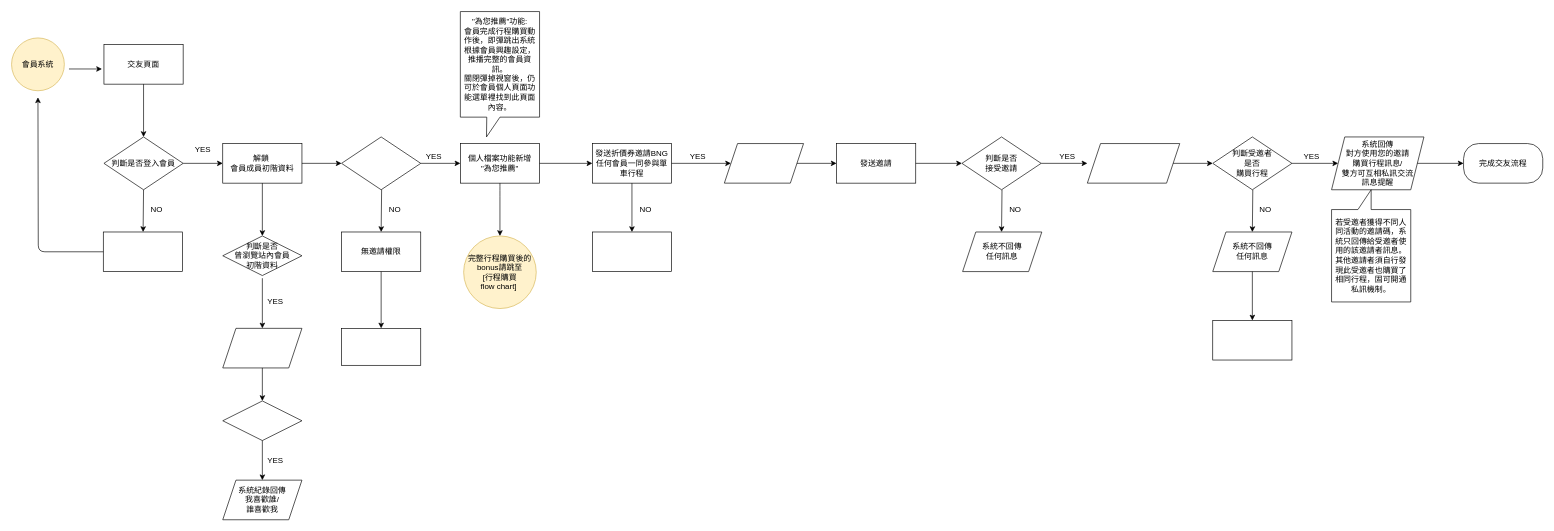
Image size: 1554x531. Some labels were removed from this diagram. Each missing label, with the box of its shape:
判斷是否 曾於BNG消費: (341, 136, 421, 190)
判斷是否 給與"喜歡": (222, 400, 302, 441)
受邀者: 折價券尚未使用提醒彈跳視窗: (1212, 320, 1292, 360)
尚未登入: (103, 231, 182, 272)
折價券尚未使用提醒彈跳視窗: (592, 231, 672, 272)
系統回傳 對方接受邀請碼訊息: (1087, 143, 1180, 183)
系統紀錄回傳 我看過誰/ 誰看過我: (222, 328, 302, 368)
行程推薦彈跳視窗: (341, 328, 421, 365)
輸入邀請自介文: (724, 143, 804, 183)
